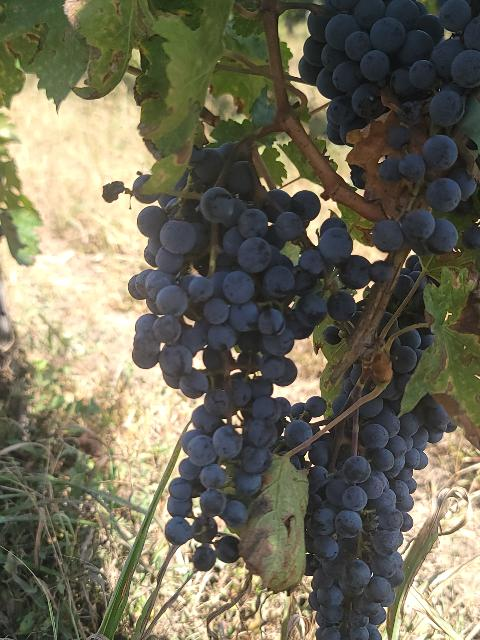grapes: (135, 140, 392, 562), (305, 395, 425, 640), (299, 0, 480, 150)
